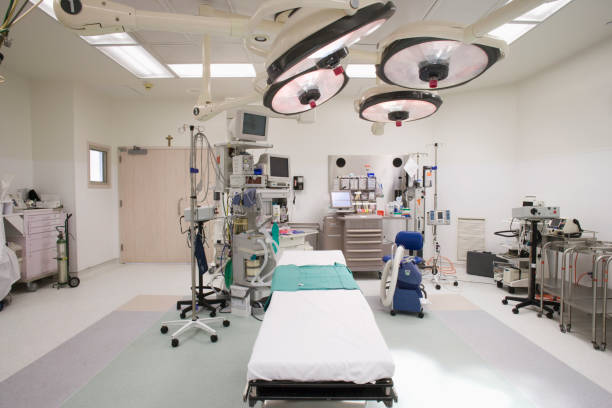bedside_monitor: (236, 109, 271, 141), (266, 155, 294, 180)
breathing_tube: (244, 226, 276, 321)
door_handle: (176, 199, 184, 216)
infusion_pump: (428, 208, 455, 224)
iv_pole: (169, 120, 216, 322), (423, 137, 453, 273), (410, 150, 430, 233)
medical_drawer: (319, 213, 413, 280), (1, 201, 74, 286)
operating_bed: (242, 249, 398, 408)
surgical_light: (243, 1, 397, 118), (377, 12, 510, 92), (354, 84, 443, 135)
utility_cart: (540, 231, 612, 352)
